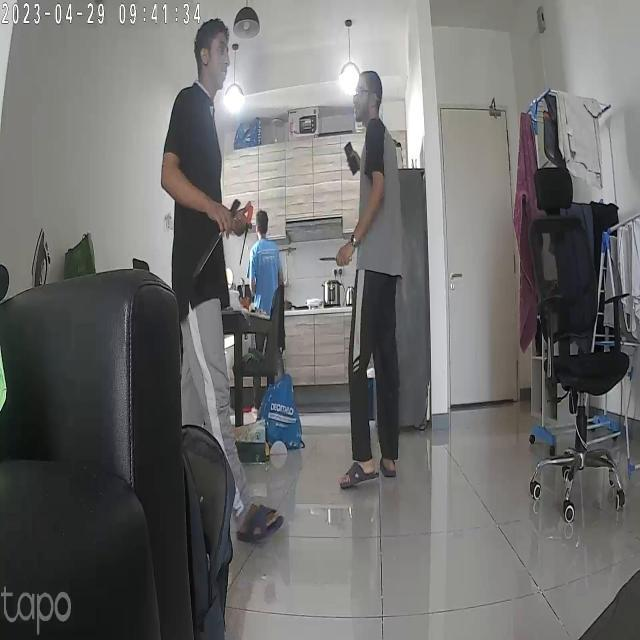Knife: (191, 196, 237, 282), (314, 252, 354, 272)
